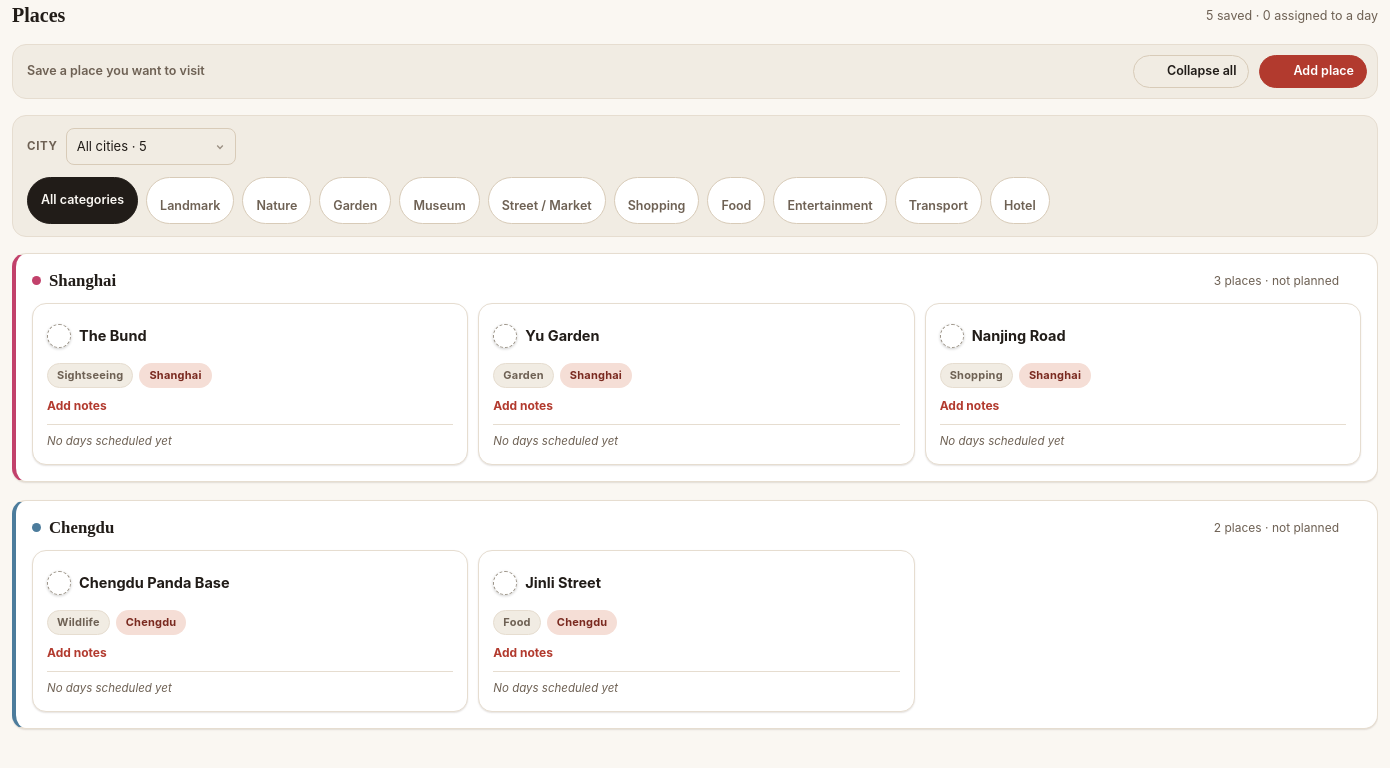
Scenario: PlacesPanel — filters › the "Shopping" category chip matches a place tagged Shopping
Click the button "Shopping" at {"x": 657, "y": 201}, box [614,177,699,224]
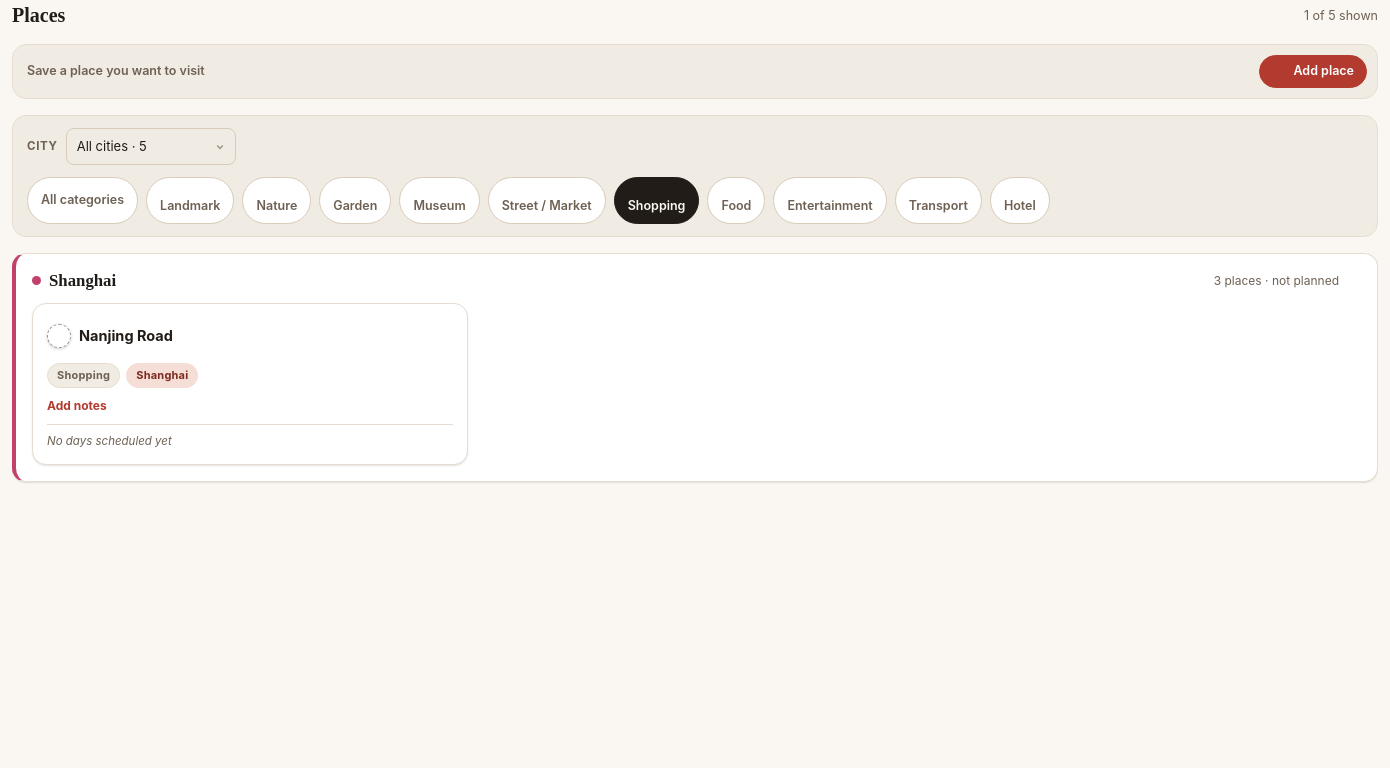
Expected: the text "Nanjing Road" is shown, [79,327,173,346]
Expected: the text "1 of 5 shown" is shown, [1304,7,1378,25]
